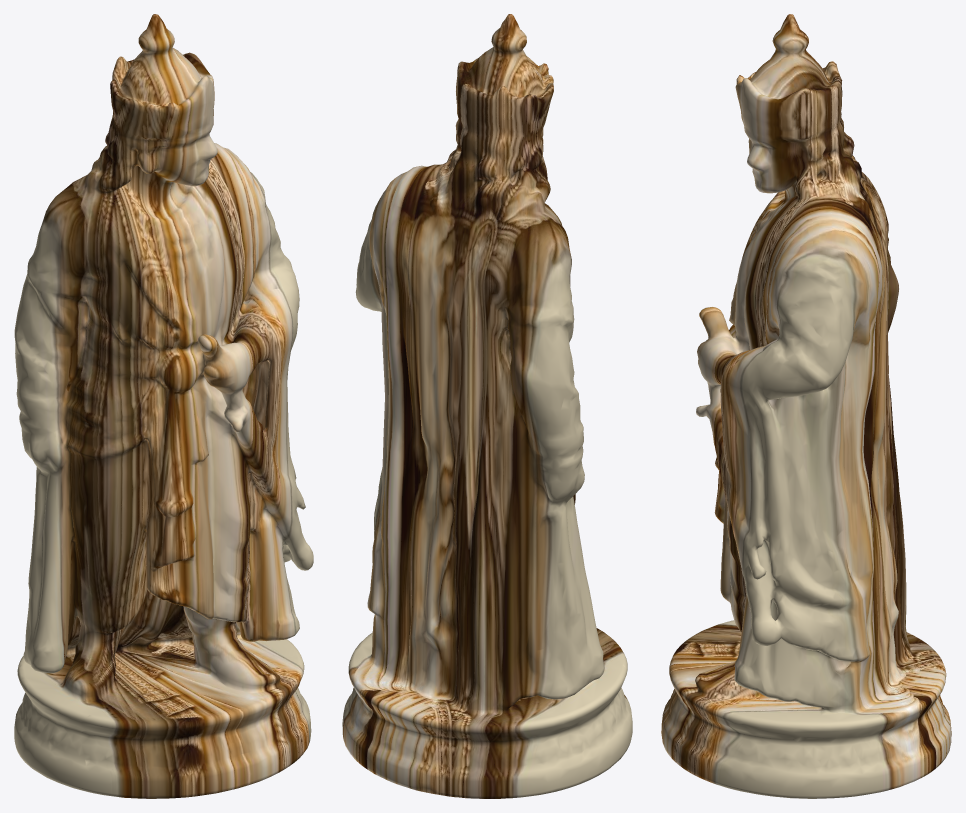
The model's file is raja.glb.
The picture shows the model from 3 angles, left to right: view 1: azimuth 30°, elevation 25°; view 2: azimuth 150°, elevation 25°; view 3: azimuth 270°, elevation 25°; orthographic projection. The views are drawn at different scales.
Parts seen in each view (by area): view 1: geometry_0; view 2: geometry_0; view 3: geometry_0.
Part boxes in pixels (x1,y1,x2,y2): geometry_0: (14,14,313,798); geometry_0: (342,14,632,798); geometry_0: (661,14,951,798).
Bounding box in the file's own units: 0.7137 × 1.97 × 0.7149.
1 material, 1 textured.
